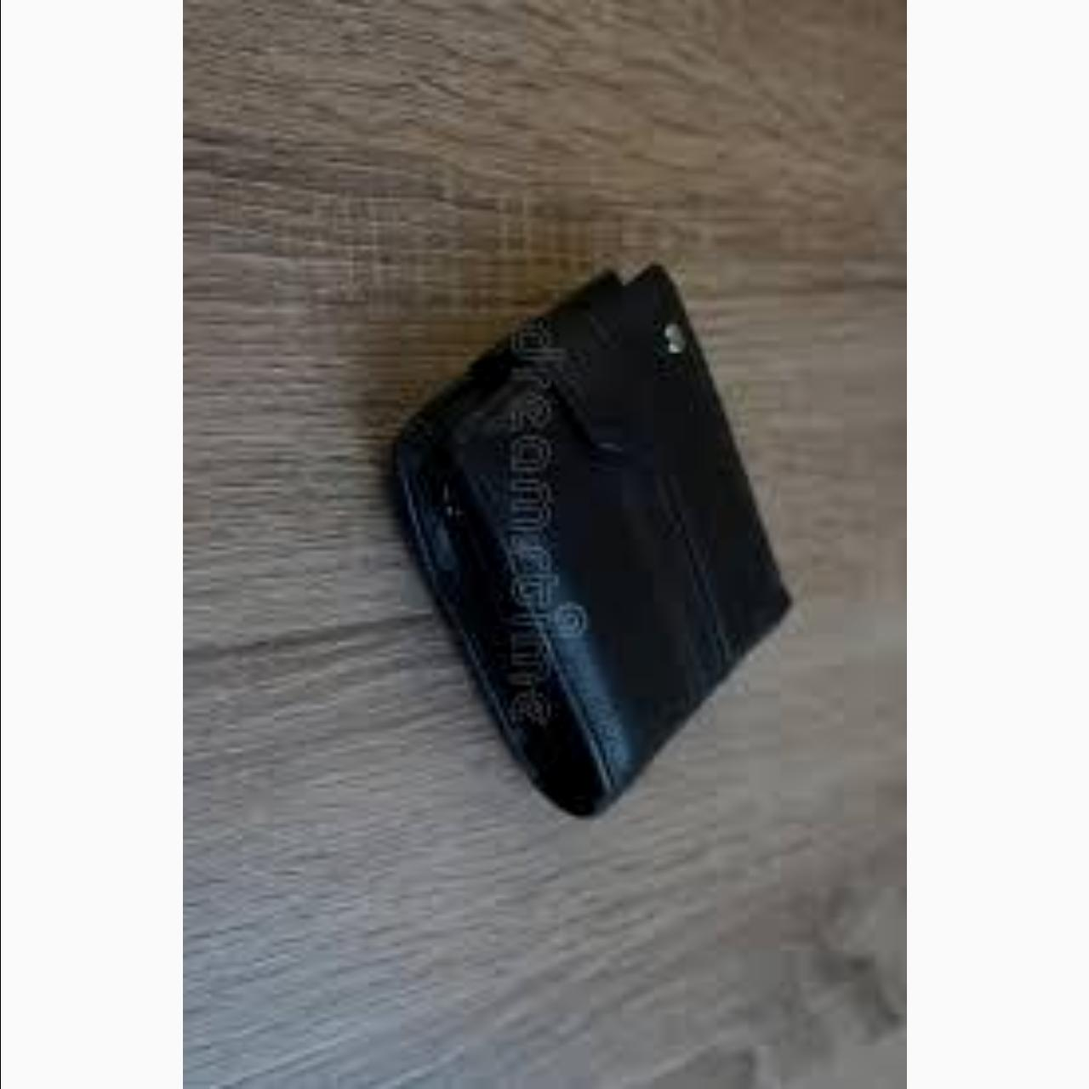wallet: (394, 238, 814, 847)
